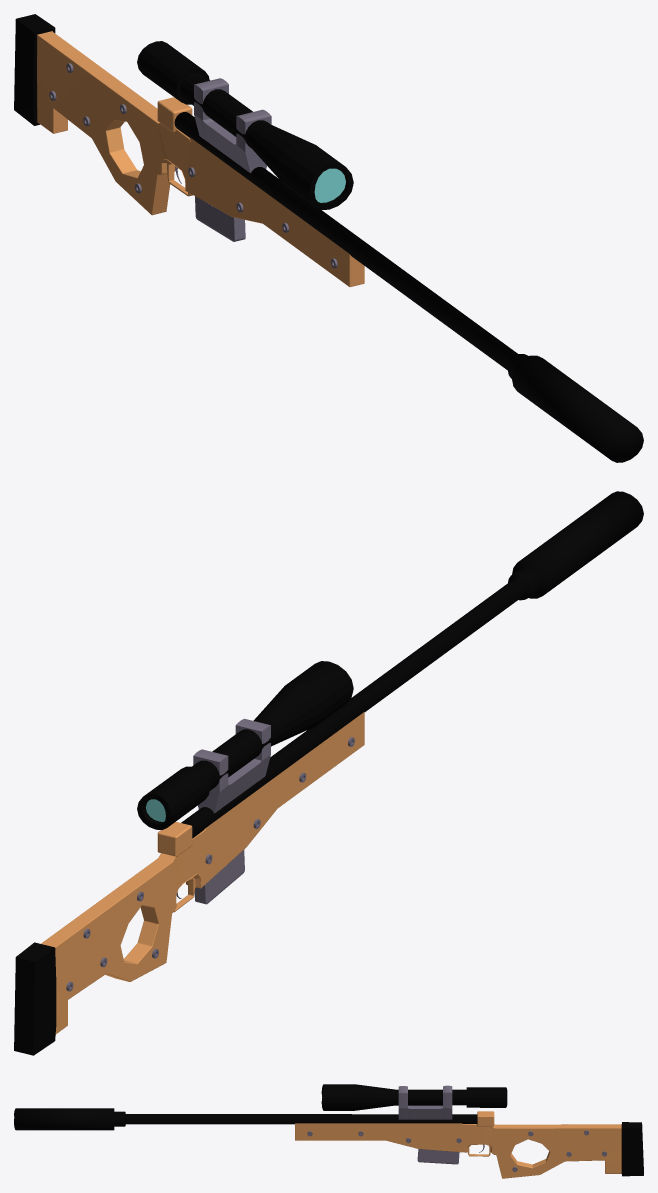
Rendered from SniperMone01.fbx.
3 views of the same model, one above another, from view 1: azimuth 30°, elevation 25°; view 2: azimuth 150°, elevation 25°; view 3: azimuth 270°, elevation 25° (orthographic). The views are drawn at different scales.
Visible parts, largest first — view 1: Base, Cylinder, Cylinder.001, Cube.003, Cube.002, Cylinder.022; view 2: Base, Cylinder, Cylinder.001, Cube.003, Cube.002; view 3: Base, Cylinder, Cylinder.001, Cube.003, Cube.002.
Part boxes in pixels (x1=…): Base: x1=14, y1=14, x2=364, y2=286; Cylinder: x1=174, y1=112, x2=643, y2=462; Cylinder.001: x1=137, y1=41, x2=353, y2=210; Cube.003: x1=194, y1=78, x2=271, y2=173; Cube.002: x1=195, y1=196, x2=245, y2=241; Cylinder.022: x1=314, y1=168, x2=345, y2=202; Base: x1=14, y1=712, x2=364, y2=1055; Cylinder: x1=181, y1=491, x2=643, y2=838; Cylinder.001: x1=137, y1=661, x2=353, y2=829; Cube.003: x1=193, y1=718, x2=270, y2=813; Cube.002: x1=194, y1=849, x2=244, y2=904; Base: x1=295, y1=1111, x2=643, y2=1178; Cylinder: x1=14, y1=1108, x2=477, y2=1130; Cylinder.001: x1=321, y1=1084, x2=507, y2=1110; Cube.003: x1=398, y1=1085, x2=452, y2=1119; Cube.002: x1=417, y1=1149, x2=459, y2=1164.
Bounding box in the file's own units: 0.247 × 0.9336 × 5.82.
